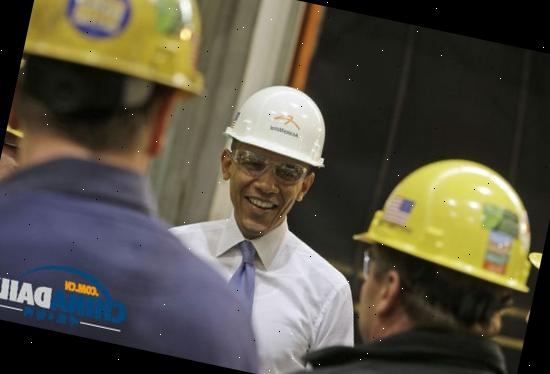helmet: (346, 136, 550, 300), (19, 0, 227, 104), (216, 72, 348, 180)
